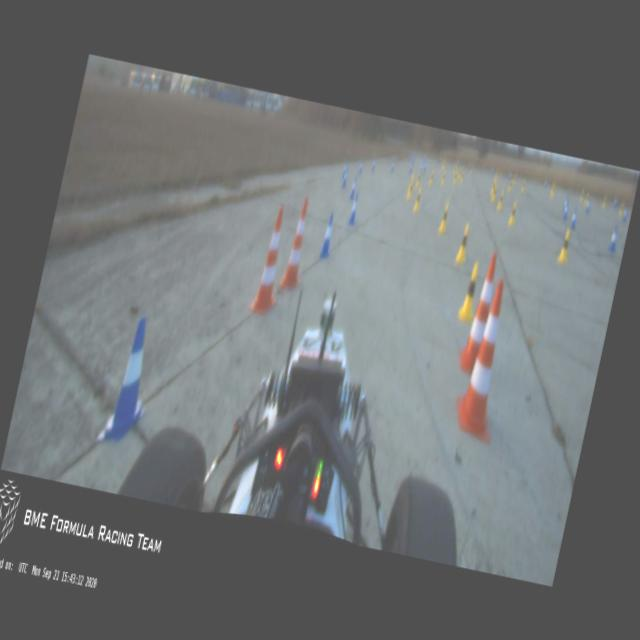blue_cone: (95, 312, 165, 449), (318, 212, 338, 258), (346, 190, 361, 225), (607, 224, 620, 252), (348, 174, 358, 200), (340, 165, 350, 188), (568, 207, 578, 230), (562, 202, 569, 220), (341, 162, 348, 178), (370, 156, 377, 172), (389, 158, 396, 174), (358, 158, 364, 174), (562, 197, 568, 212), (613, 193, 619, 206), (622, 207, 628, 220), (542, 176, 548, 188), (586, 200, 591, 210), (409, 161, 413, 172), (411, 154, 415, 164), (468, 160, 472, 170), (508, 170, 512, 179), (490, 167, 494, 175), (423, 155, 426, 162), (456, 158, 459, 165), (424, 164, 426, 172), (408, 154, 410, 161), (420, 163, 422, 170)
large_orange_cone: (449, 276, 522, 442), (457, 251, 500, 371), (248, 208, 294, 314), (278, 197, 318, 292)
yellow_cone: (456, 260, 484, 322), (454, 221, 472, 263), (556, 228, 574, 264), (437, 202, 451, 234), (412, 186, 422, 212), (508, 202, 518, 226), (406, 180, 414, 200), (496, 191, 504, 210), (414, 171, 422, 187), (490, 186, 498, 202), (408, 172, 414, 191), (428, 169, 434, 186), (580, 187, 586, 202), (440, 170, 446, 184), (550, 182, 556, 196), (584, 192, 590, 206), (602, 192, 608, 206), (618, 202, 624, 216), (507, 179, 513, 192), (520, 180, 526, 193), (452, 172, 458, 184), (492, 173, 498, 184), (441, 158, 447, 169), (457, 166, 462, 178), (512, 174, 518, 184), (459, 171, 464, 182), (469, 164, 474, 172), (453, 164, 457, 173)
